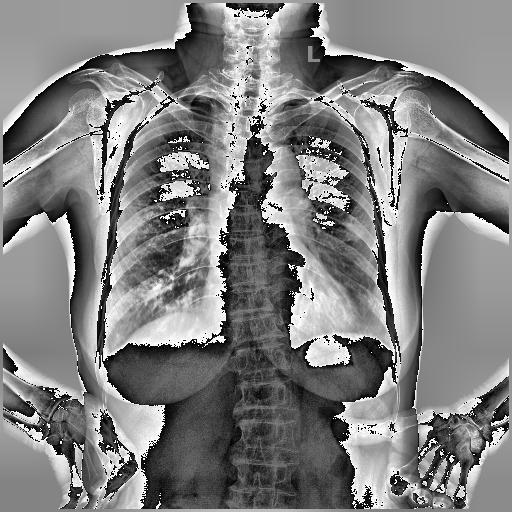0- Aortic enlargement: (252, 144, 303, 202), (258, 145, 306, 205), (250, 142, 301, 188)
10- Pleural effusion: (98, 342, 112, 368)
11- Pleural thickening: (284, 94, 330, 108), (98, 342, 112, 368), (181, 92, 214, 102)
3- Cardiomegaly: (200, 278, 360, 334), (200, 282, 360, 334)
7- Lung Opacity: (102, 330, 131, 365)
